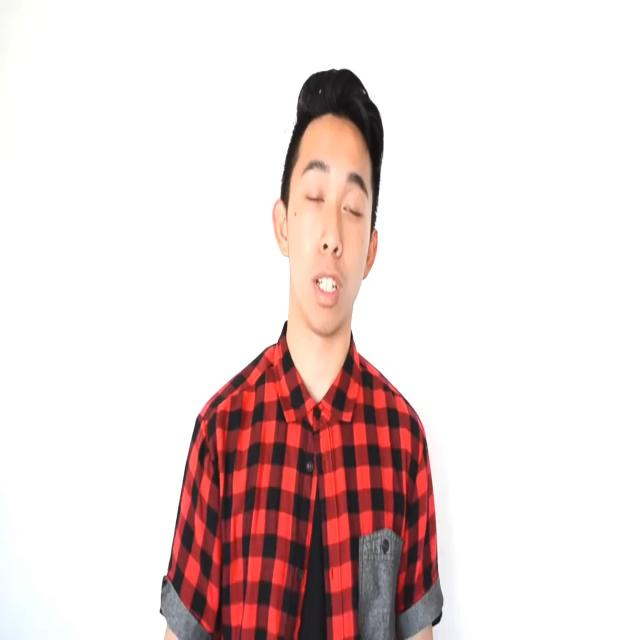Shirt: (160, 318, 444, 640)
